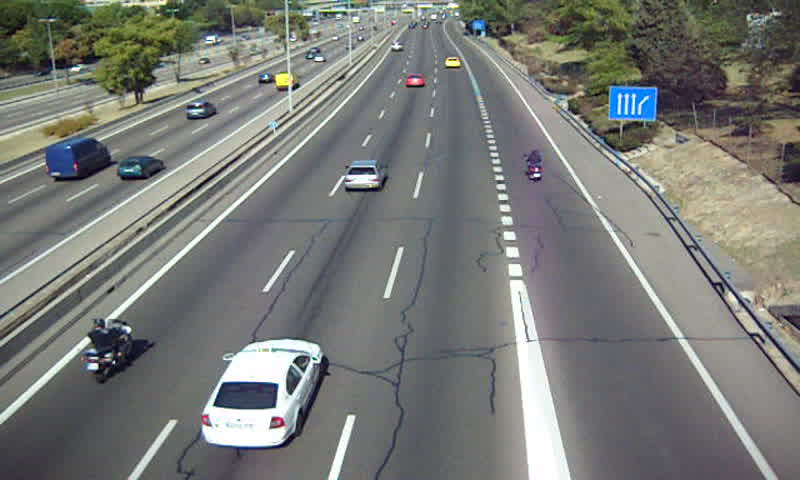car: (202, 339, 322, 448), (341, 158, 387, 188), (406, 72, 424, 90), (445, 57, 462, 68)
motorcycle: (83, 316, 131, 381), (525, 148, 545, 182)
